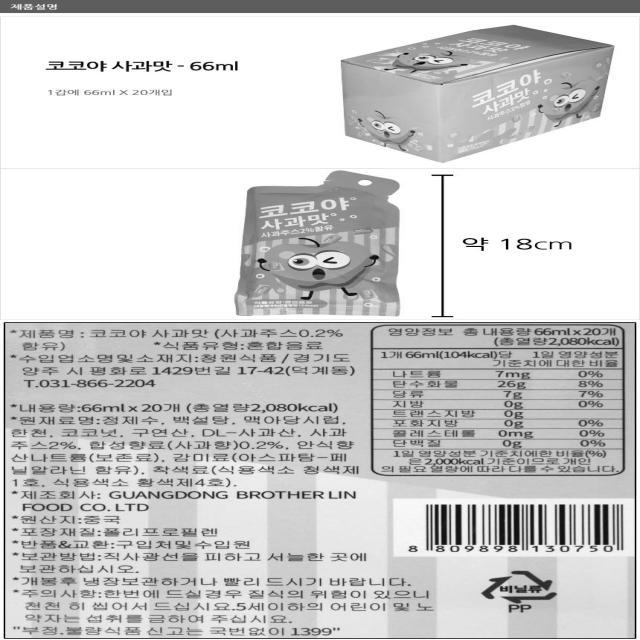Nutrition Label: (359, 317, 640, 480)
